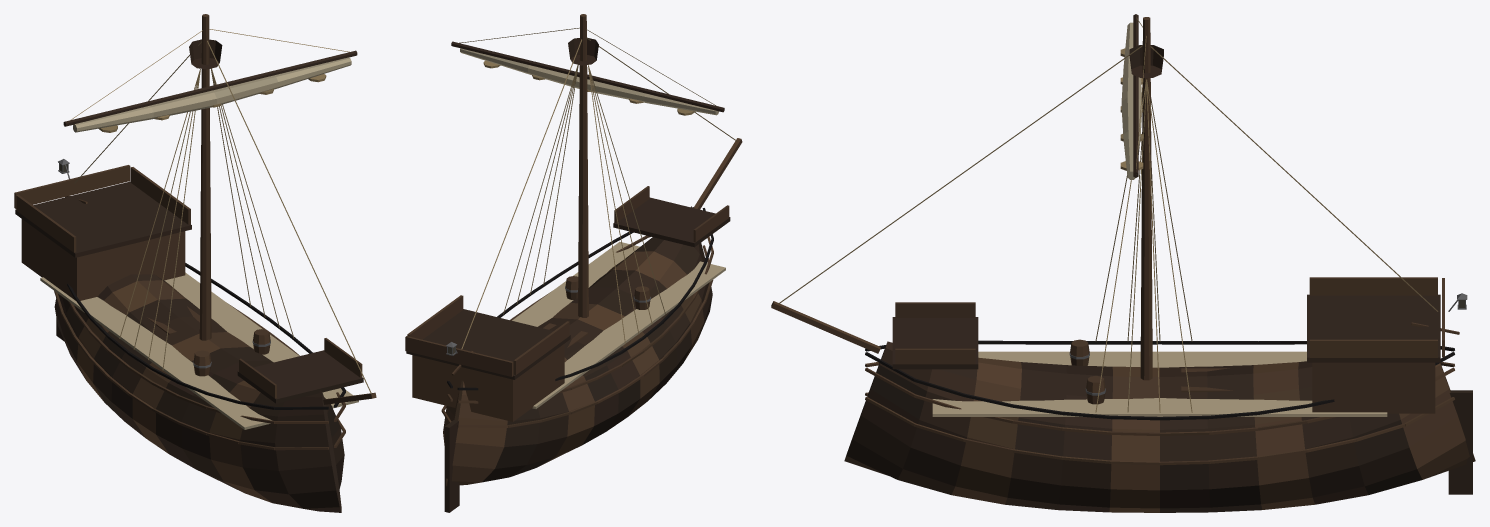
File: walk_any_ship.glb
3 renders of one model, left to right at view 1: azimuth 30°, elevation 25°; view 2: azimuth 150°, elevation 25°; view 3: azimuth 270°, elevation 25°, orthographic. The views are drawn at different scales.
Visible parts, largest first — view 1: walk_any_ship; view 2: walk_any_ship; view 3: walk_any_ship.
Boxes of the visible parts, bbox=[...] form: walk_any_ship: bbox=[14, 14, 376, 512]; walk_any_ship: bbox=[405, 14, 742, 512]; walk_any_ship: bbox=[771, 14, 1475, 512].
Size of what is drawn, in the model's own units: 14.01 by 20 by 26.36.
2 materials, 2 textured.
